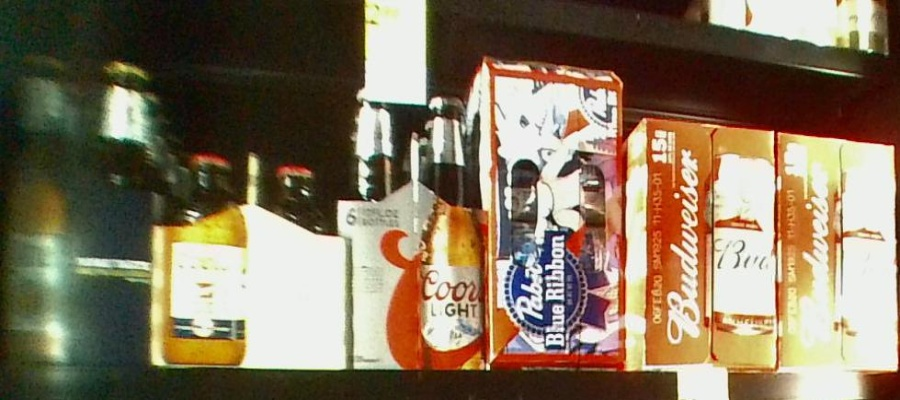bottle: (1, 52, 153, 368), (484, 56, 628, 370), (151, 150, 351, 371), (624, 114, 776, 372), (352, 83, 484, 371), (778, 129, 900, 372)
